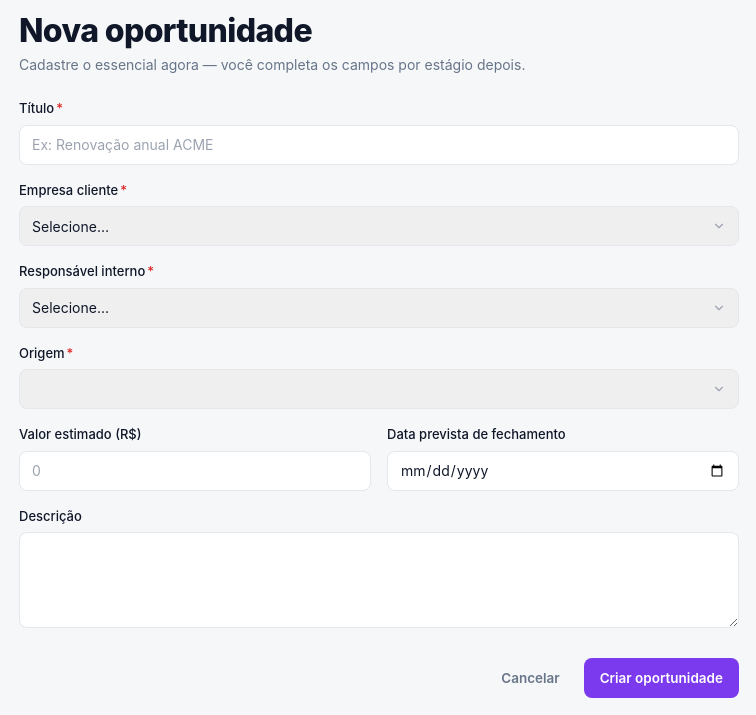
it: /pipeline/new (P-53 piloto Testing Library) › Valor estimado aceita separador decimal com vírgula
Type "1234,56" into the field labelled "Valor estimado (R$)".
click(195, 471); type("1234,56")  # box [19,451,371,491]
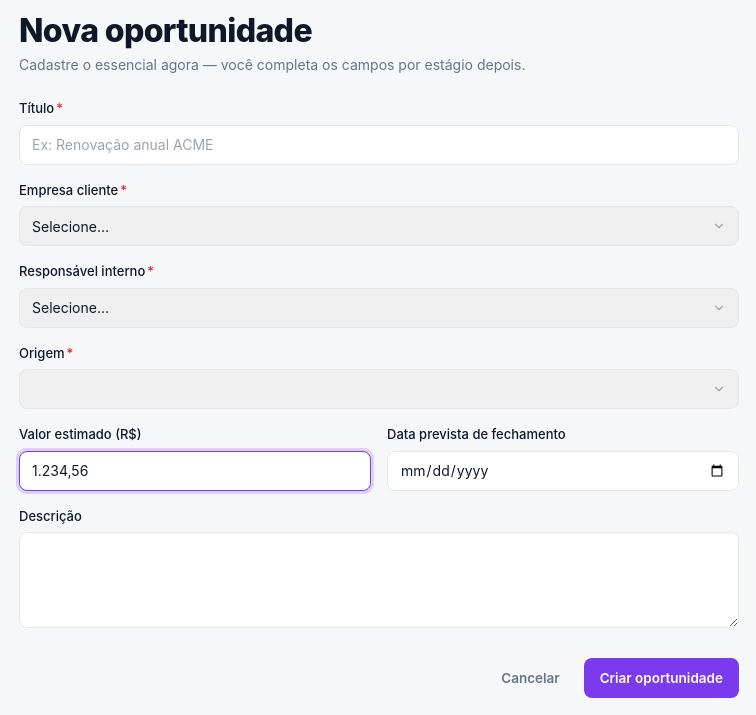
Result: the field labelled "Valor estimado (R$)" holds "1.234,56" at [19,451,371,491]
